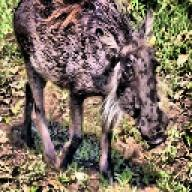boar: (10, 0, 170, 182)
